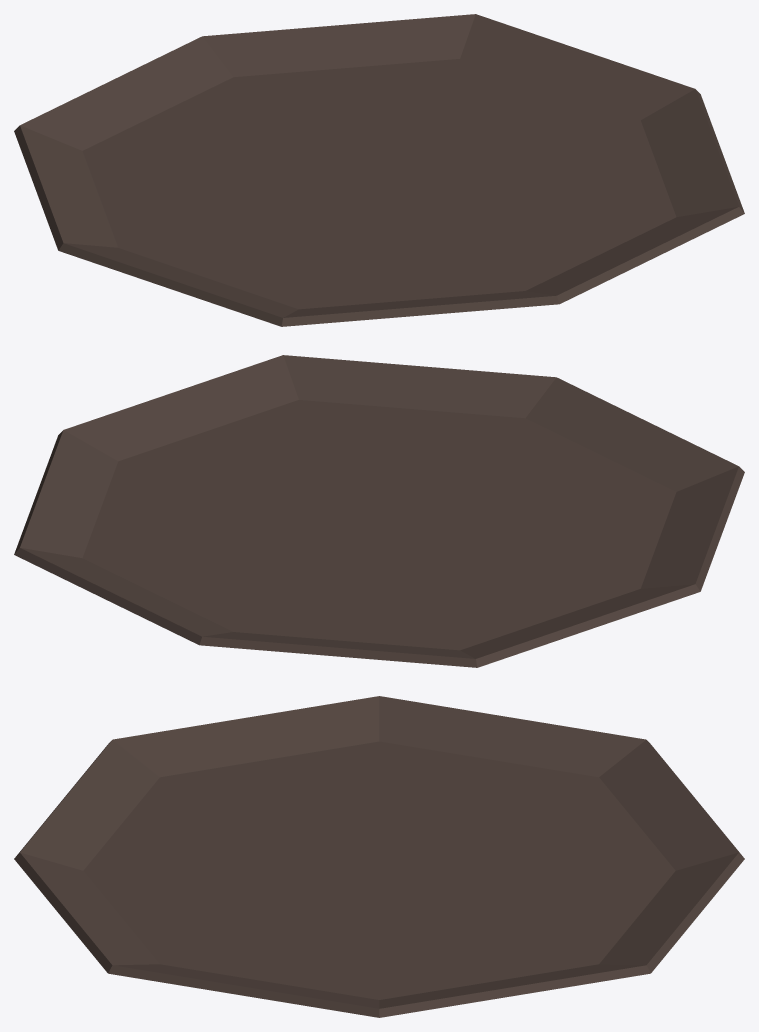
Rendered from plateWood.fbx.
The picture shows the model from 3 angles, top to bottom: view 1: azimuth 30°, elevation 25°; view 2: azimuth 150°, elevation 25°; view 3: azimuth 270°, elevation 25°; orthographic projection.
Visible parts, largest first — view 1: plateWood; view 2: plateWood; view 3: plateWood.
Boxes of the visible parts, x1,y1,x2,y2 form: plateWood: (14, 14, 744, 326); plateWood: (14, 355, 744, 667); plateWood: (14, 696, 744, 1017).
Bounding box in the file's own units: 34.85 × 1.49 × 33.86.
Materials: 1 (1 with a texture image).
